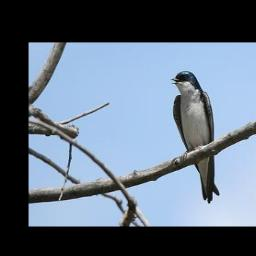Swallow: (170, 70, 220, 204)
